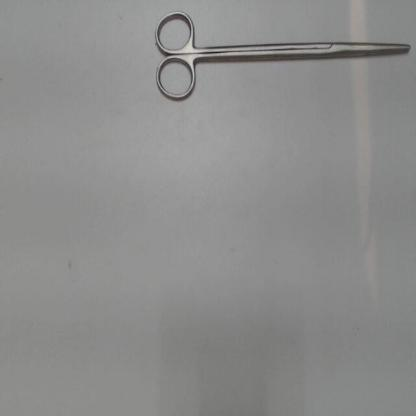9 Metzenbaum Scissors: (152, 7, 410, 106)
